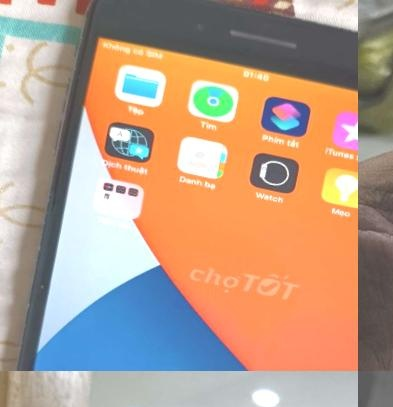scratch: (34, 276, 50, 294)
